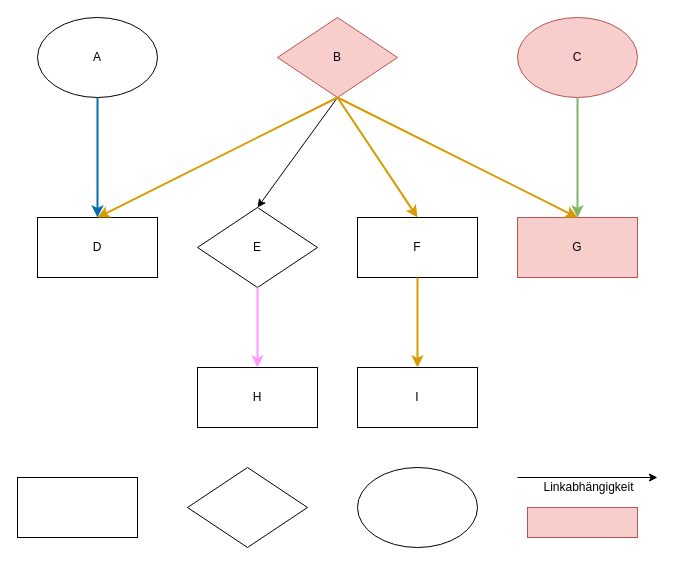
The diagram is 683 pixels wide and 565 high, and some of its shapes have lost their labels. Each missing label, with the centre of its shape:
"ausführbare Datei" goes at (x=417, y=507).
"dynamische Bibliothek" goes at (x=247, y=507).
"für Instrumentation markiert" goes at (x=582, y=522).
"statische Biliothek" goes at (x=77, y=507).
